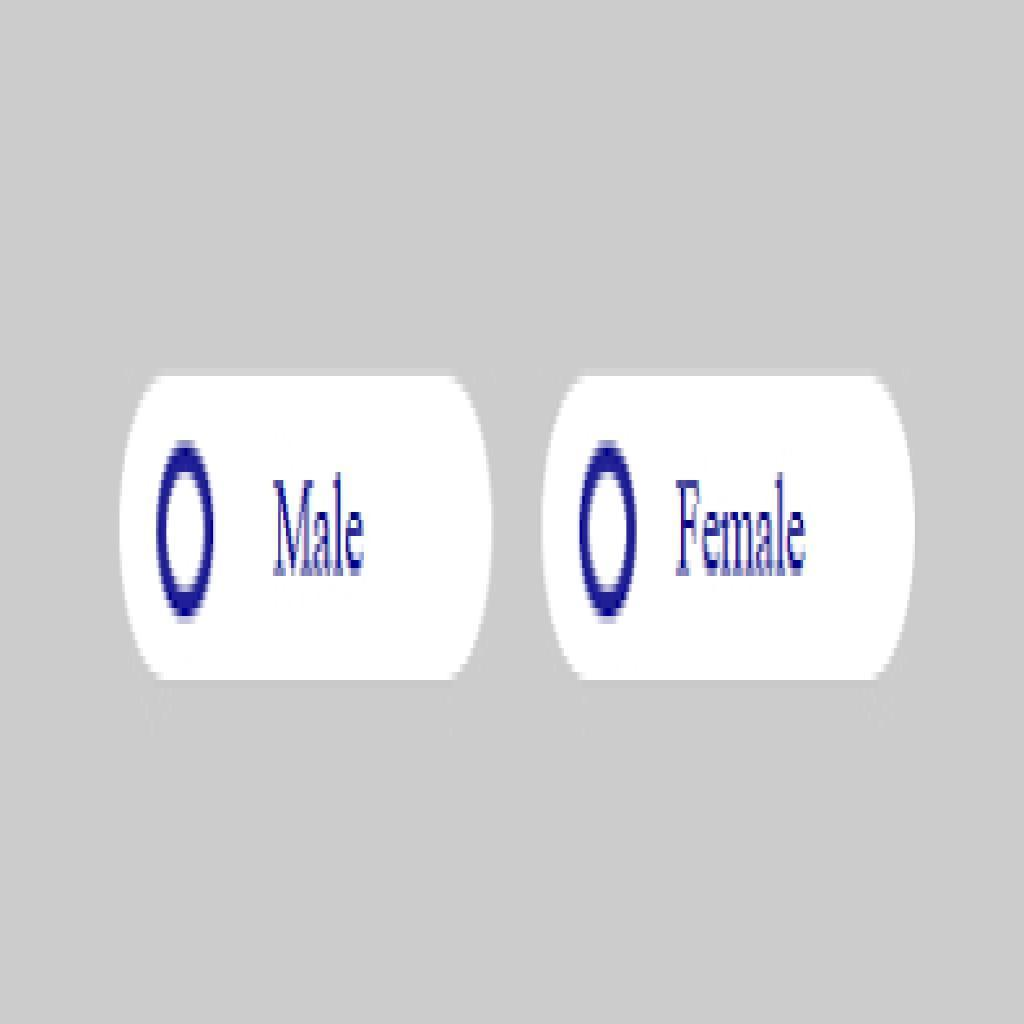label: (262, 471, 372, 590)
radio: (578, 430, 643, 628), (154, 436, 220, 628)
